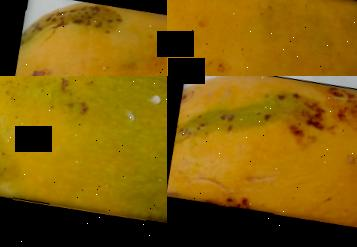PartiallyRipe: (0, 76, 167, 247), (167, 0, 357, 76)
Ripe: (167, 76, 357, 247), (0, 0, 167, 76)
